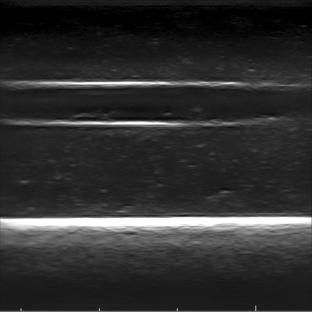vessel: (0, 79, 289, 129)
